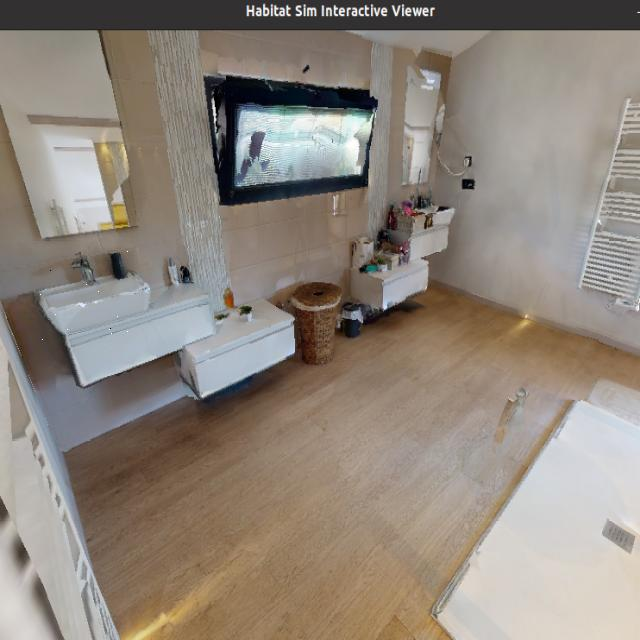sink: (38, 241, 156, 341)
